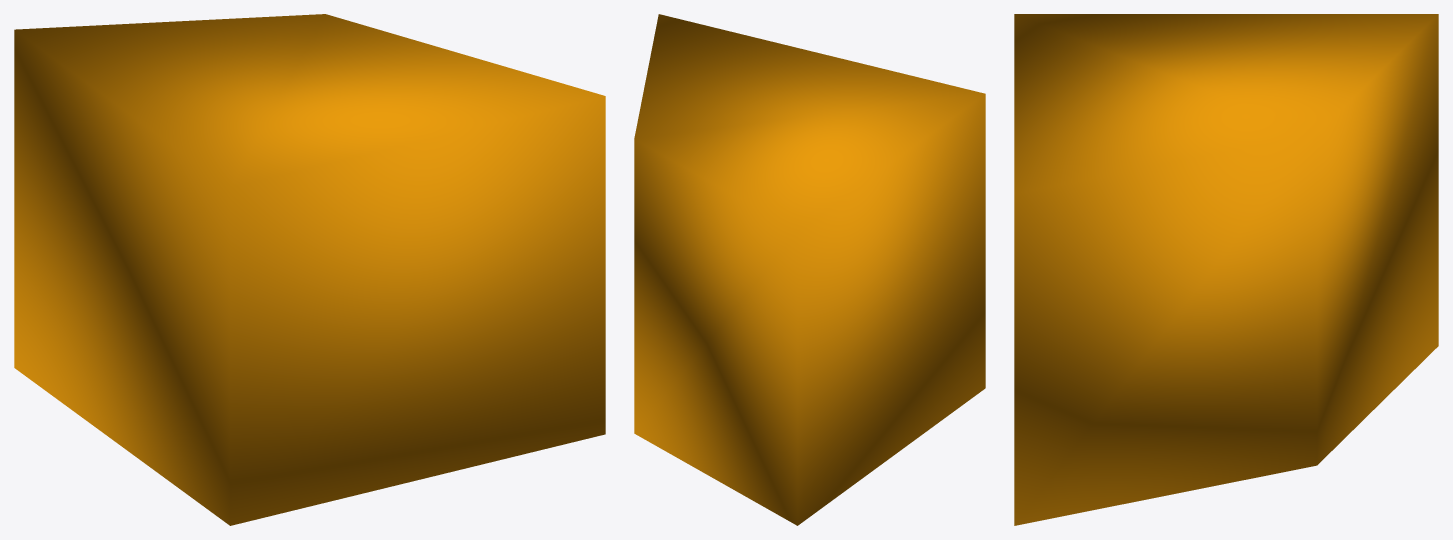
File: Wall_Top_02D.fbx
3 views of the same model, side by side, from view 1: azimuth 30°, elevation 25°; view 2: azimuth 150°, elevation 25°; view 3: azimuth 270°, elevation 25° (orthographic). The views are drawn at different scales.
Parts seen in each view (by area): view 1: Wall_Top_02D; view 2: Wall_Top_02D; view 3: Wall_Top_02D.
Part boxes in pixels (x1,y1,x2,y2): Wall_Top_02D: [14, 14, 605, 525]; Wall_Top_02D: [634, 14, 985, 525]; Wall_Top_02D: [1014, 14, 1438, 525].
Bounding box in the file's own units: 58.43 × 50.29 × 58.23.
